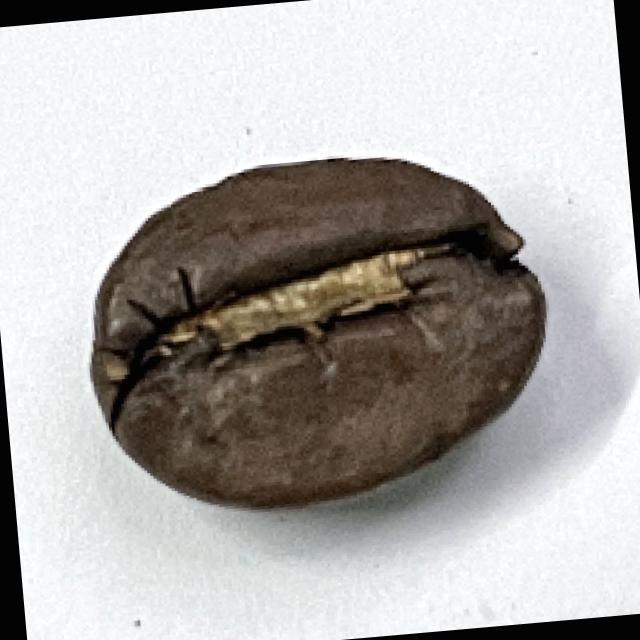bean: (69, 140, 560, 526)
